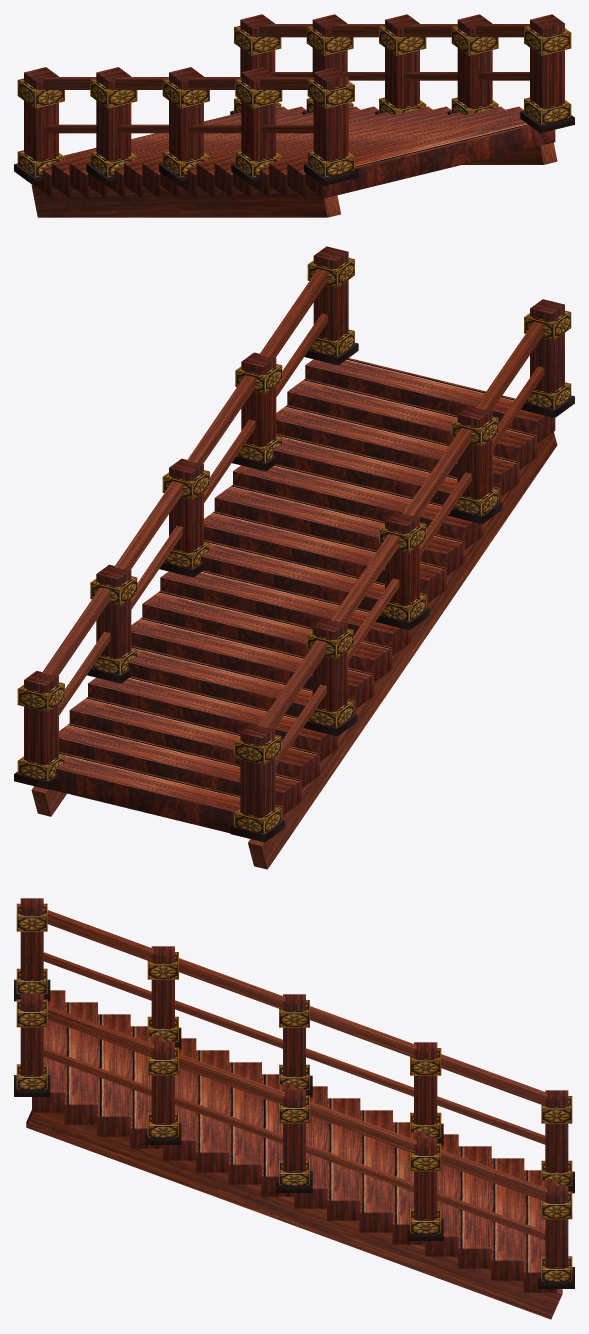
The model's file is Stares.fbx.
3 views of the same model, one above another, from view 1: azimuth 30°, elevation 25°; view 2: azimuth 150°, elevation 25°; view 3: azimuth 270°, elevation 25° (orthographic). The views are drawn at different scales.
Parts seen in each view (by area): view 1: Retopo_Stares.001; view 2: Retopo_Stares.001; view 3: Retopo_Stares.001.
Part boxes in pixels (bbox=[...]): Retopo_Stares.001: bbox=[14, 14, 574, 217]; Retopo_Stares.001: bbox=[14, 246, 574, 869]; Retopo_Stares.001: bbox=[14, 898, 574, 1319].
Size of the model in its own units: 260 by 348 by 556.
